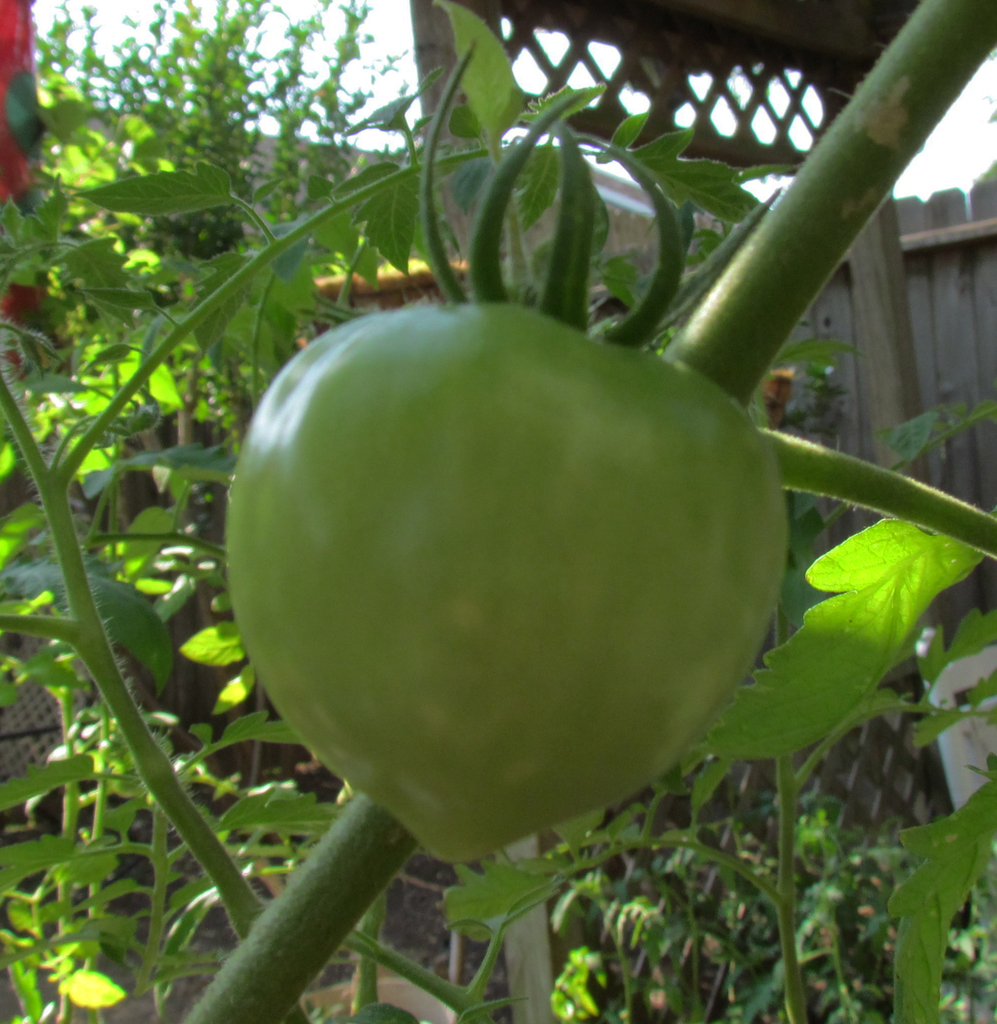Tomato: (224, 34, 790, 863)
